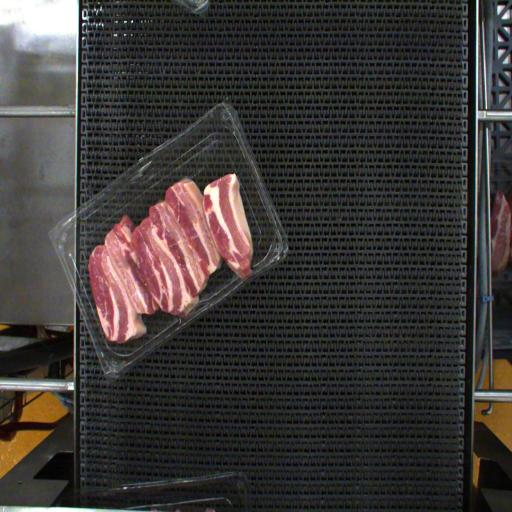packaging-error: (171, 301, 203, 329), (231, 266, 257, 290)
